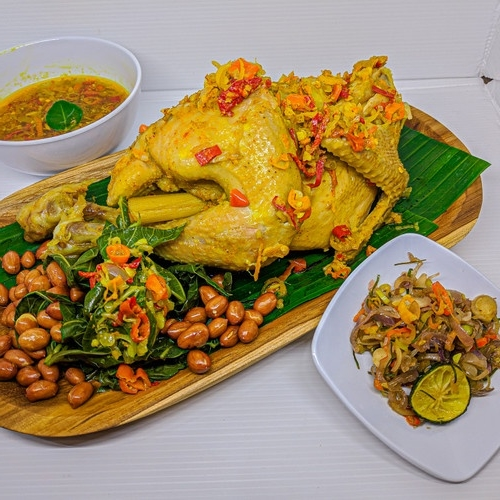ayam_betutu: (106, 57, 411, 273)
